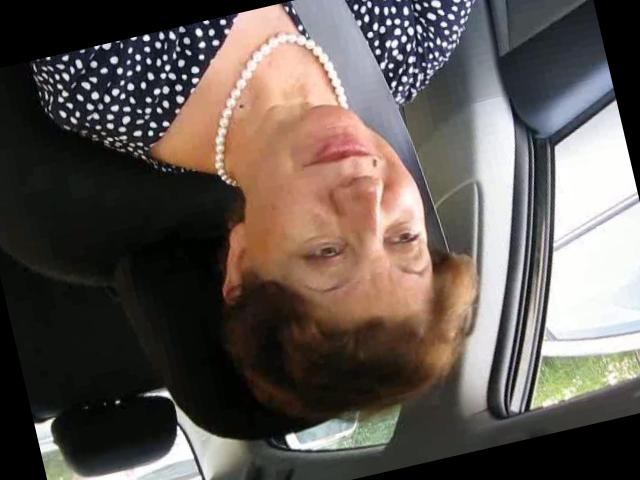eye_open: (292, 232, 356, 276), (383, 220, 426, 255)
face: (239, 86, 448, 330)
